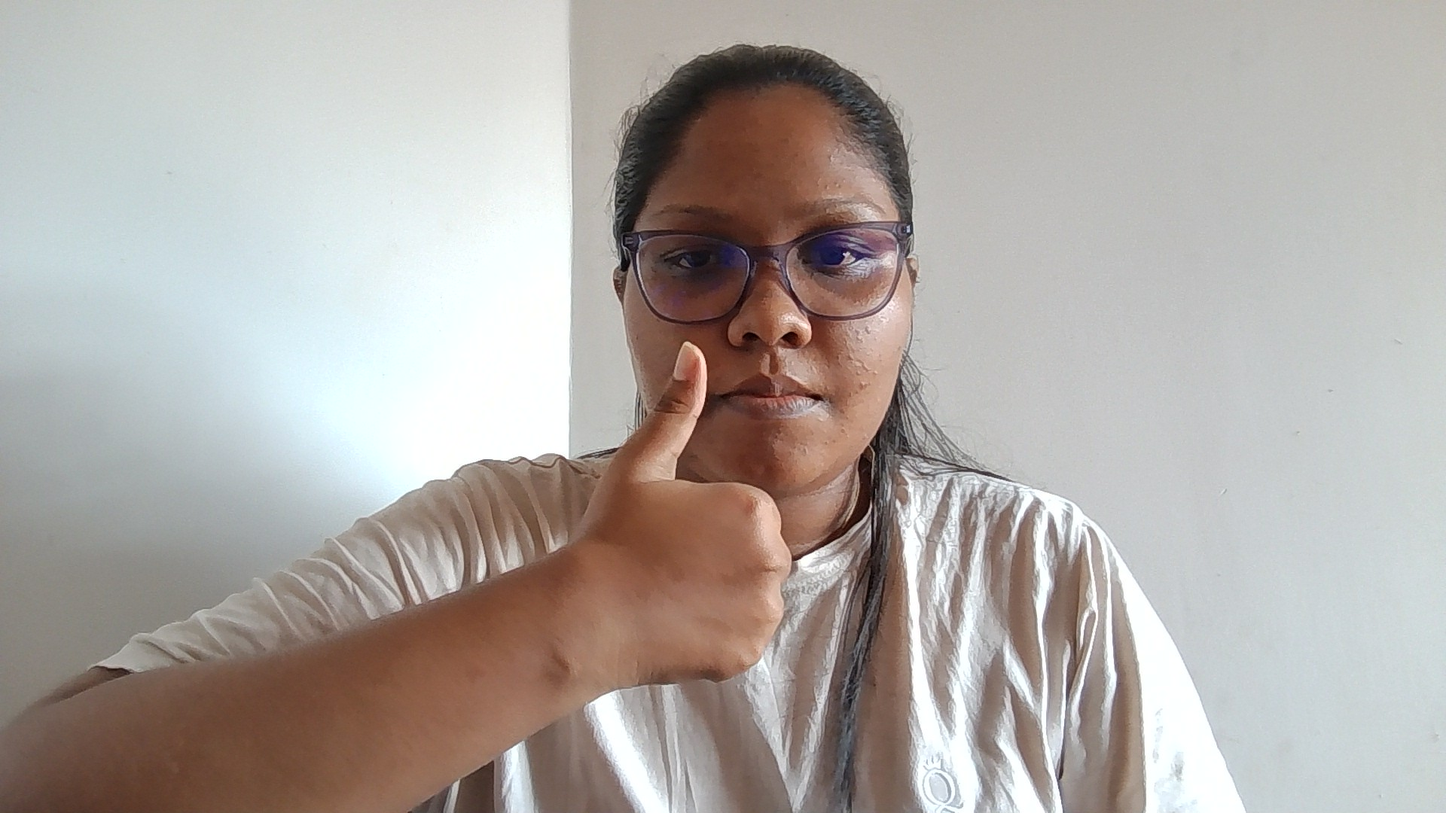Thumbs Up: (450, 324, 841, 752)
